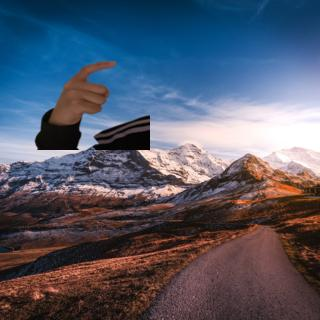WHY: (49, 54, 120, 125)
